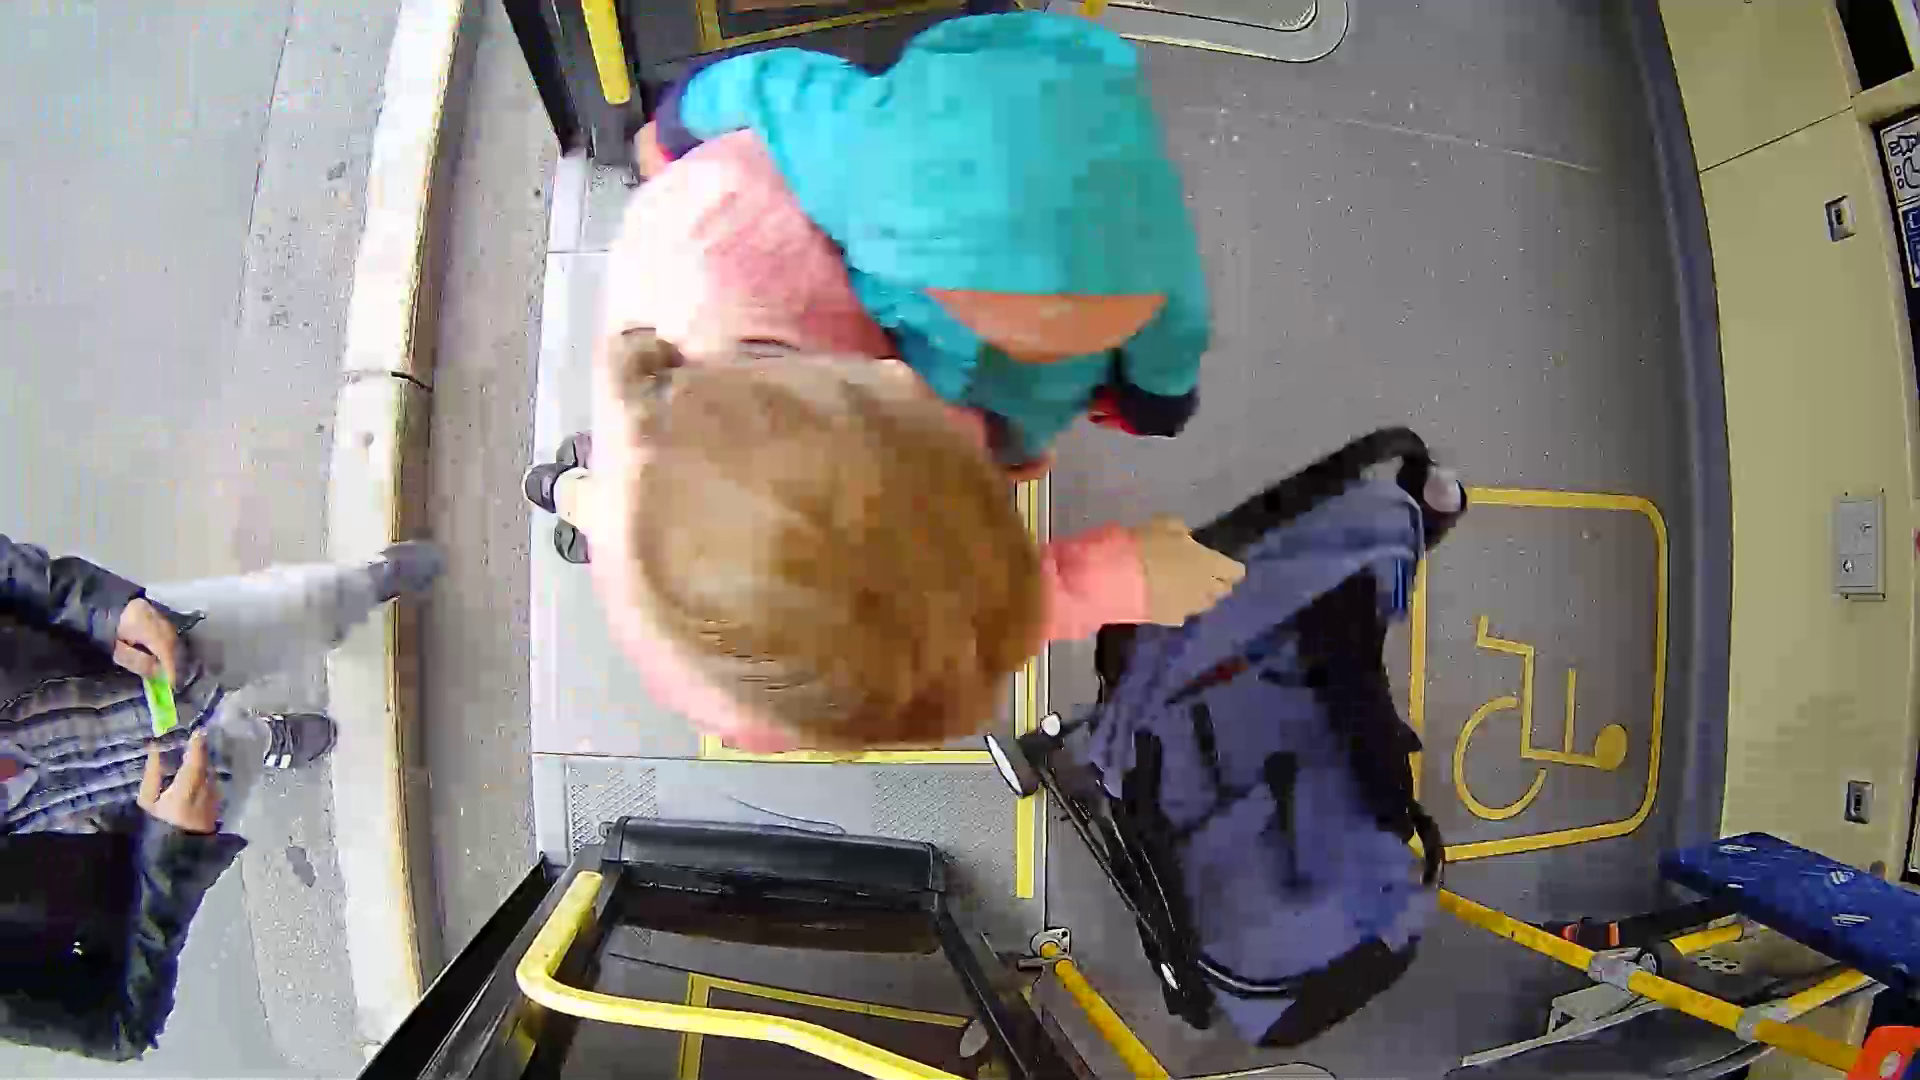person: (448, 100, 1275, 761)
